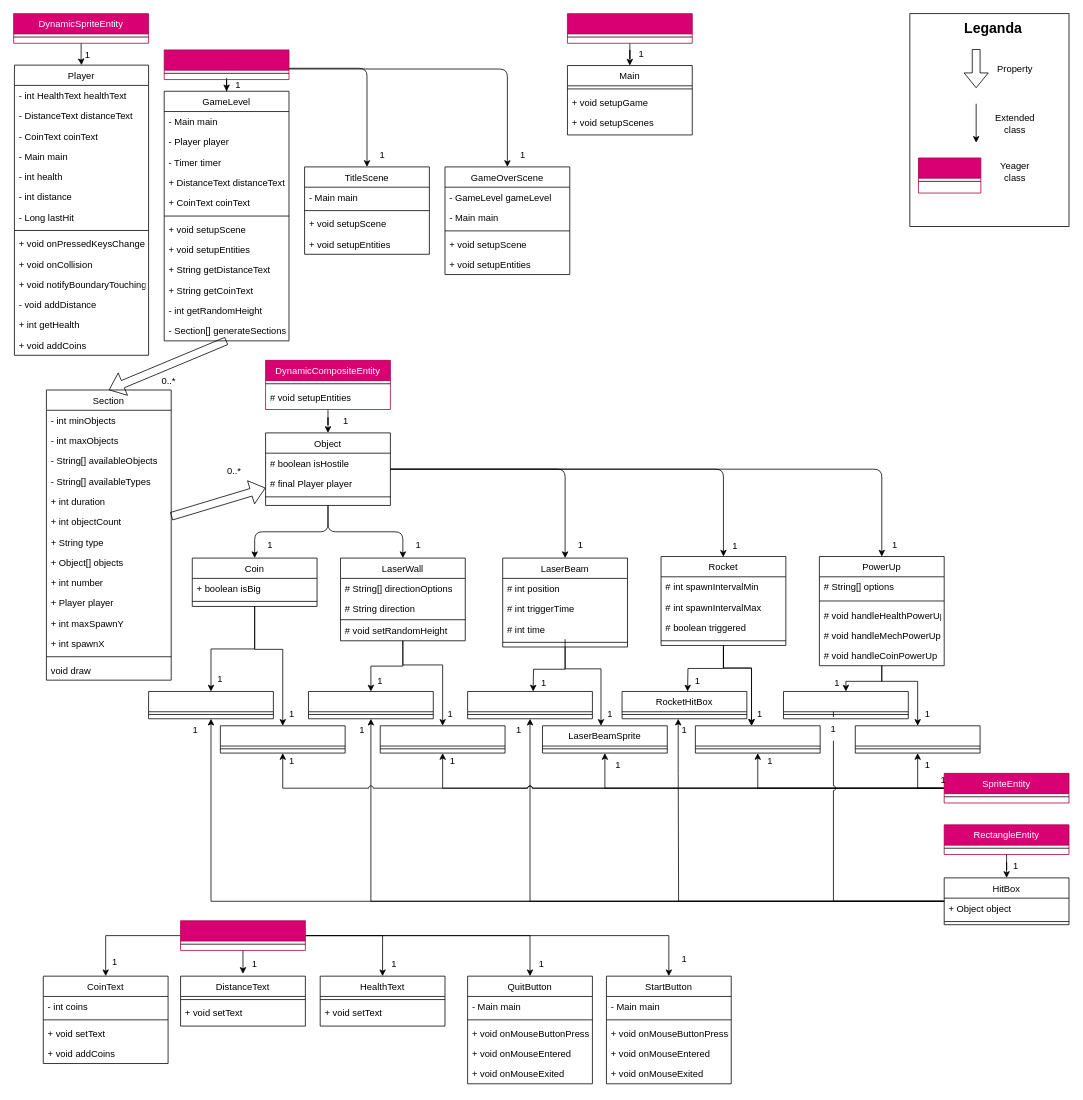
Image size: 1083x1100. Some labels were removed from this diagram. Each missing label, with the centre of its shape:
Class: point 949,175
CoinHitBox: point 210,705
CoinSprite: point 282,739
DynamicScene: point 226,64
LaserBeamHitBox: point 529,705
LaserWallHitBox: point 370,705
LaserWallSprite: point 442,739
PowerUpHitBox: point 845,705
PowerUpSprite: point 917,739
RocketSprite: point 757,739
TextEntity: point 242,935
YeagerGame: point 629,28
